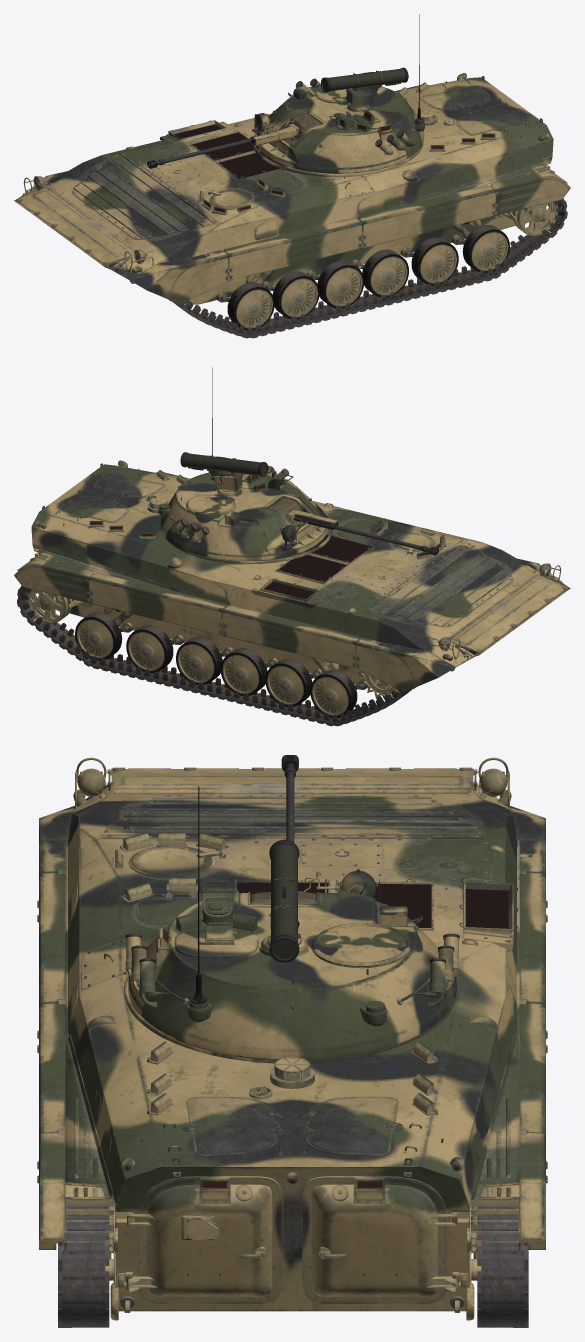
The model's file is bmp-2.glb.
3 views of the same model, one above another, from view 1: azimuth 30°, elevation 25°; view 2: azimuth 150°, elevation 25°; view 3: azimuth 270°, elevation 25° (orthographic). The views are drawn at different scales.
Visible parts, largest first — view 1: Object_6, Object_3, Object_2, Object_5, Object_4; view 2: Object_6, Object_3, Object_2, Object_5, Object_4; view 3: Object_6, Object_3, Object_2, Object_5, Object_4.
Part boxes in pixels (bbox=[...]): Object_6: bbox=[14, 77, 555, 327]; Object_3: bbox=[16, 73, 570, 330]; Object_2: bbox=[147, 14, 425, 173]; Object_5: bbox=[173, 198, 567, 338]; Object_4: bbox=[321, 67, 408, 92]; Object_6: bbox=[29, 464, 570, 714]; Object_3: bbox=[14, 460, 568, 717]; Object_2: bbox=[158, 367, 438, 561]; Object_5: bbox=[17, 586, 411, 726]; Object_4: bbox=[180, 452, 268, 476]; Object_6: bbox=[72, 767, 512, 1311]; Object_3: bbox=[37, 757, 547, 1320]; Object_2: bbox=[125, 755, 459, 1060]; Object_5: bbox=[58, 1199, 528, 1327]; Object_4: bbox=[269, 840, 299, 962].
Size of the model in its own units: 38.73 by 20.11 by 18.63.
5 materials, 5 textured.
